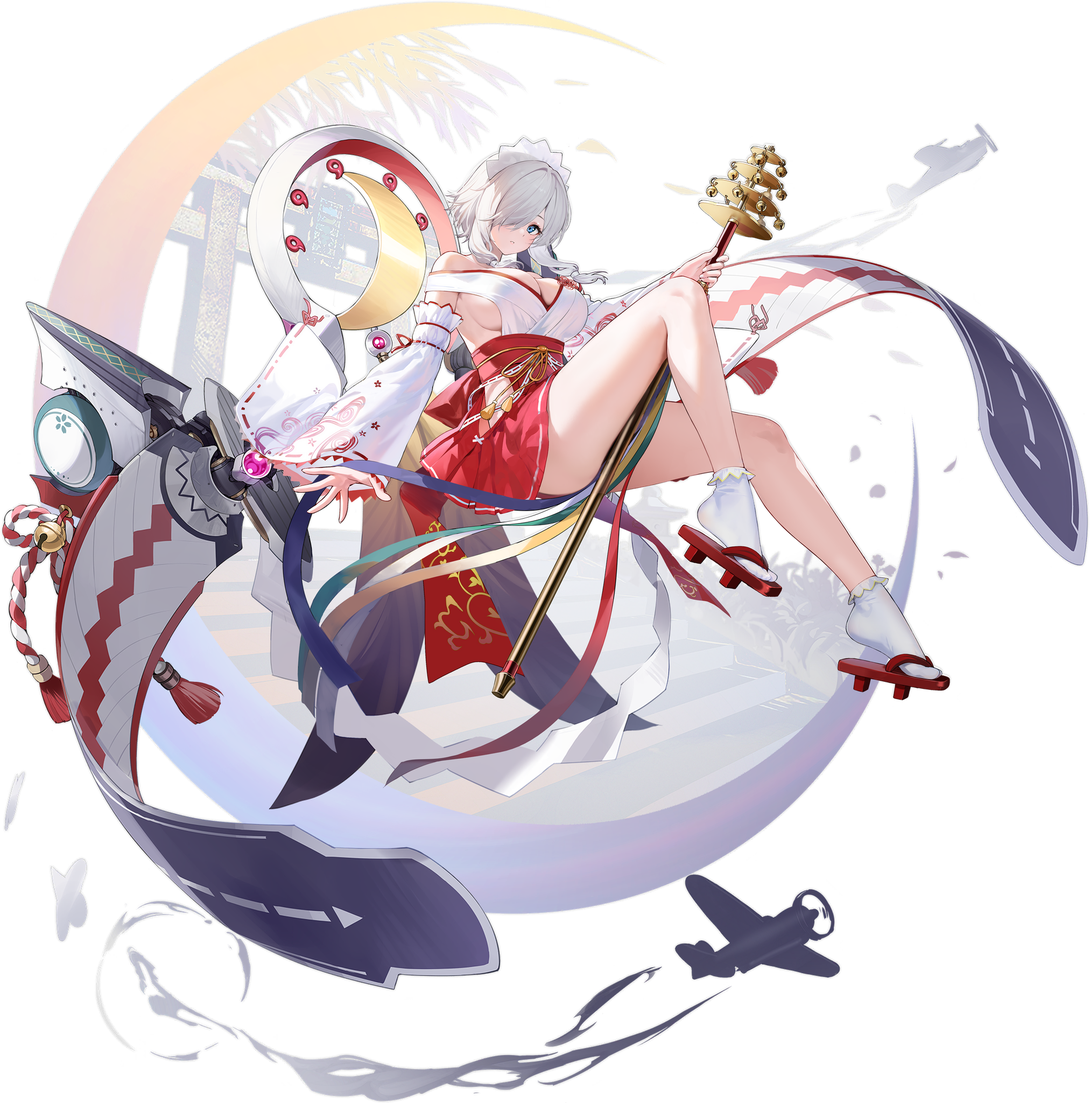person: (118, 20, 1081, 797)
